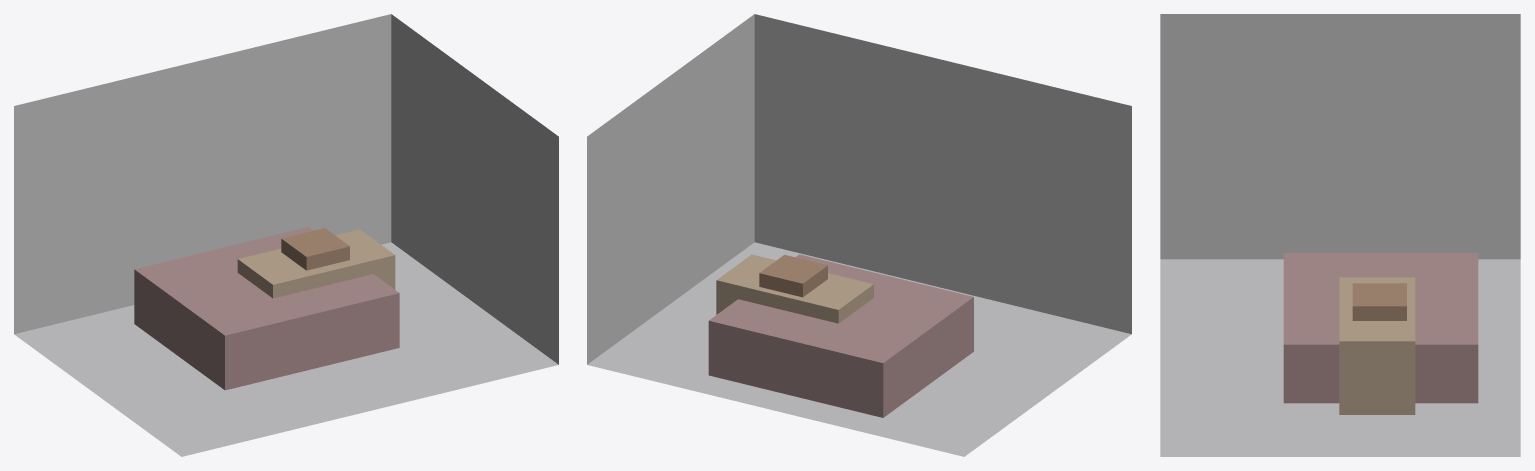
File: optimised_layout.glb
3 renders of one model, left to right at view 1: azimuth 30°, elevation 25°; view 2: azimuth 150°, elevation 25°; view 3: azimuth 270°, elevation 25°, orthographic. The views are drawn at different scales.
Parts seen in each view (by area): view 1: room, bed, desk, chair; view 2: room, bed, desk, chair; view 3: room, bed, desk, chair.
Part boxes in pixels (box(x1,y1,x2,y2)): room: box(14, 14, 558, 456); bed: box(134, 227, 399, 390); desk: box(237, 229, 395, 298); chair: box(281, 228, 349, 270); room: box(587, 14, 1131, 456); bed: box(708, 254, 973, 417); desk: box(716, 254, 873, 323); chair: box(759, 254, 827, 297); room: box(1160, 14, 1520, 456); bed: box(1283, 253, 1478, 403); desk: box(1339, 277, 1415, 414); chair: box(1352, 283, 1406, 320).
Size of the model in its own units: 4.32 by 2.5 by 3.33.
